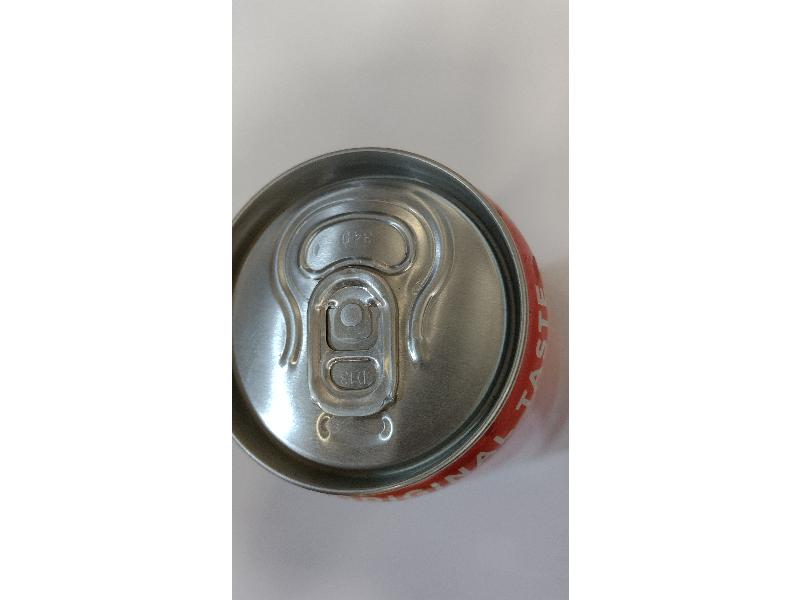can: (233, 141, 553, 504)
